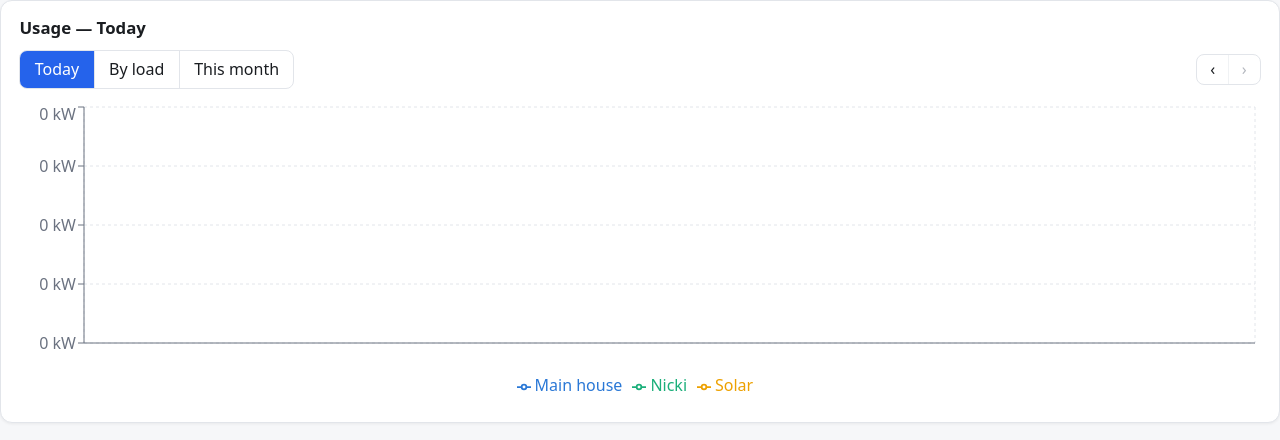
Test case: <EnergyChart> › pages back a day, then stops at the data-start floor
Click the button named "Previous": [1213, 69] box top-left (1198, 55), bottom-right (1228, 84)
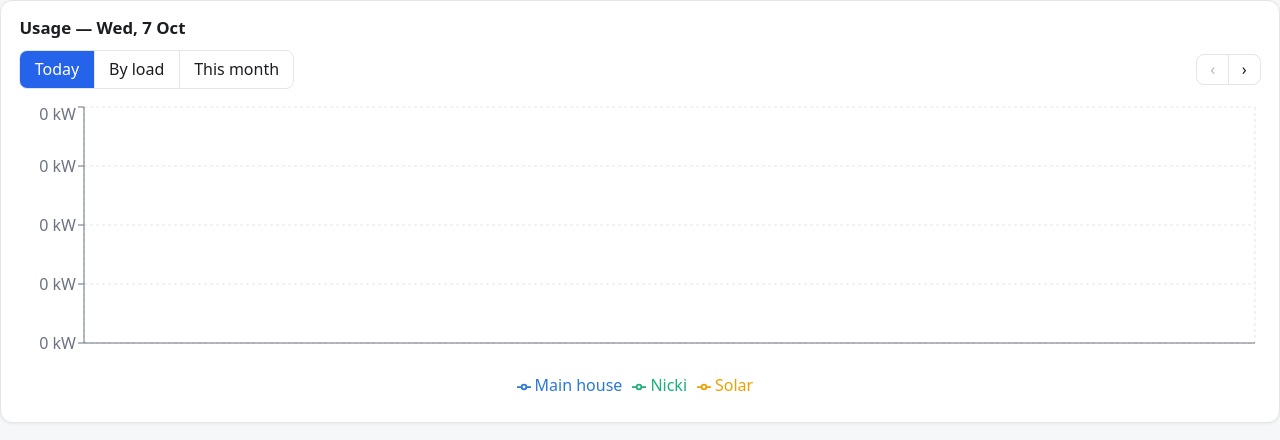
Expected: the button named "Next" is enabled, top-left (1228, 55), bottom-right (1260, 84)
Expected: the heading "Usage — Wed, 7 Oct" is shown, top-left (19, 16), bottom-right (185, 39)
